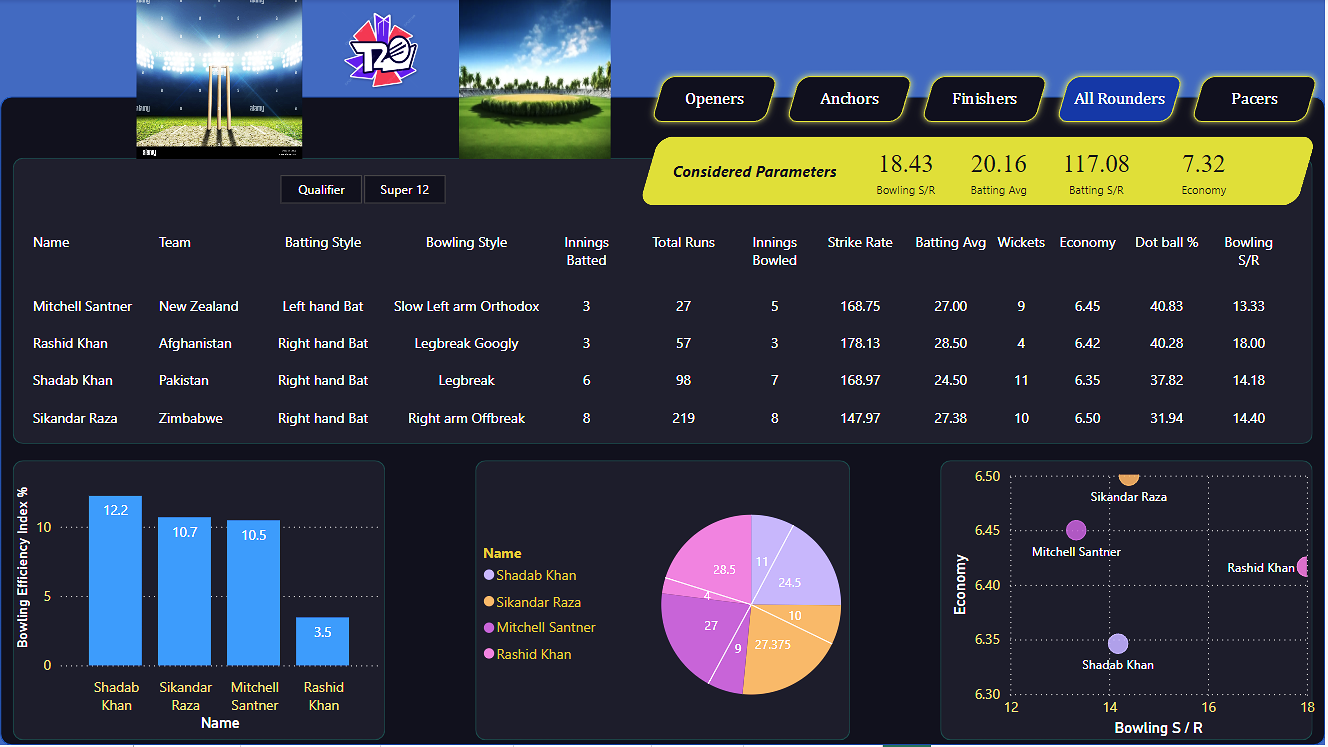

Layout of this report page (visuals, bound fields, positions):
{"tool":"powerbi","page":{"name":"All Rounders","canvas":[1280,720],"ordinal":3},"visuals":[{"type":"shape","box":[1.2,93.9,1278.8,626.1],"z":0},{"type":"tableEx","fields":{"Values":["list_players.name","list_players.team","list_players.battingStyle","list_players.bowlingStyle","Key_Measures.Total Innings Batted","Key_Measures.Total Runs","Key_Measures.Total Innings Bowled","Key_Measures.Strike rate","Key_Measures.Batting Avg","Key_Measures.wickets","Key_Measures.Economy","Key_Measures.Dot ball %"]},"box":[26.9,216.4,1225.3,218.9],"z":1000},{"type":"scatterChart","fields":{"Category":["list_players.name"],"X":["Key_Measures.Bowling Strike Rate"],"Y":["Key_Measures.Economy"],"Series":["list_players.name"]},"box":[919.6,450,351,261.7],"z":2000},{"type":"shape","box":[908.4,445.2,359.5,270.2],"z":3000},{"type":"shape","box":[13.3,153.2,1254.7,276.3],"z":4000},{"type":"slicer","fields":{"Values":["match_summary.stage"]},"box":[250.9,167.7,199.1,31.4],"z":5000},{"type":"shape","box":[617.7,132.7,653.9,66.4],"z":6000},{"type":"shape","box":[630,153,199.3,25],"z":7000},{"type":"card","fields":{"Values":["Key_Measures.Strike rate"]},"box":[1010.1,133,98.9,66],"z":8000},{"type":"card","fields":{"Values":["Key_Measures.Bowling Strike Rate"]},"box":[830.3,133,90.5,66],"z":9000},{"type":"card","fields":{"Values":["Key_Measures.Batting Avg"]},"box":[920.8,133,89.3,66],"z":10000},{"type":"card","fields":{"Values":["Key_Measures.Economy"]},"box":[1109,133,108.6,66],"z":11000},{"type":"shape","box":[623,67,136.3,58],"z":12000},{"type":"shape","box":[753,67,136.3,58],"z":13000},{"type":"shape","box":[883,67,136.3,58],"z":14000},{"type":"shape","box":[1013,67,136.3,58],"z":15000},{"type":"shape","box":[1143.7,67,136.3,58],"z":16000},{"type":"image","box":[325,5,87.5,88.8],"z":17000},{"type":"image","box":[132.5,0,160,154],"z":18000},{"type":"image","box":[443.8,0,146.2,154],"z":19000},{"type":"pieChart","fields":{"Category":["list_players.name"],"Y":["Key_Measures.wickets","Key_Measures.Batting Avg"]},"box":[466.9,453.6,399.3,261.8],"z":19001},{"type":"clusteredColumnChart","fields":{"Category":["list_players.name"],"Y":["Key_Measures.Bowling Efficiency Index %"]},"box":[16,445.2,351.1,261.8],"z":19002},{"type":"shape","box":[459.7,445.2,361.9,270.2],"z":19003},{"type":"shape","box":[13.3,445.2,359.5,270.2],"z":19004}]}

Visuals, with their boxes in screenshot pixels (x1, y1, x2, y2), scaled from the page's 1280x720 canvas onto the 1328x747 screenshot:
shape: bbox=(1, 97, 1327, 746)
tableEx - list_players.name x list_players.team: bbox=(28, 225, 1299, 452)
scatterChart - list_players.name x Key_Measures.Bowling Strike Rate: bbox=(954, 467, 1318, 738)
shape: bbox=(942, 462, 1315, 742)
shape: bbox=(14, 159, 1316, 446)
slicer - match_summary.stage: bbox=(260, 174, 467, 207)
shape: bbox=(641, 138, 1319, 207)
shape: bbox=(654, 159, 860, 185)
card - Key_Measures.Strike rate: bbox=(1048, 138, 1151, 206)
card - Key_Measures.Bowling Strike Rate: bbox=(861, 138, 955, 206)
card - Key_Measures.Batting Avg: bbox=(955, 138, 1048, 206)
card - Key_Measures.Economy: bbox=(1151, 138, 1263, 206)
shape: bbox=(646, 70, 788, 130)
shape: bbox=(781, 70, 923, 130)
shape: bbox=(916, 70, 1058, 130)
shape: bbox=(1051, 70, 1192, 130)
shape: bbox=(1187, 70, 1327, 130)
image: bbox=(337, 5, 428, 97)
image: bbox=(137, 0, 303, 160)
image: bbox=(460, 0, 612, 160)
pieChart - list_players.name x Key_Measures.wickets: bbox=(484, 471, 899, 742)
clusteredColumnChart - list_players.name x Key_Measures.Bowling Efficiency Index %: bbox=(17, 462, 381, 734)
shape: bbox=(477, 462, 852, 742)
shape: bbox=(14, 462, 387, 742)
